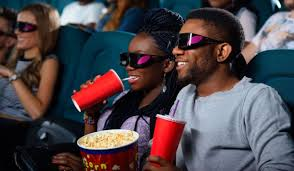black_male: (172, 13, 245, 78)
